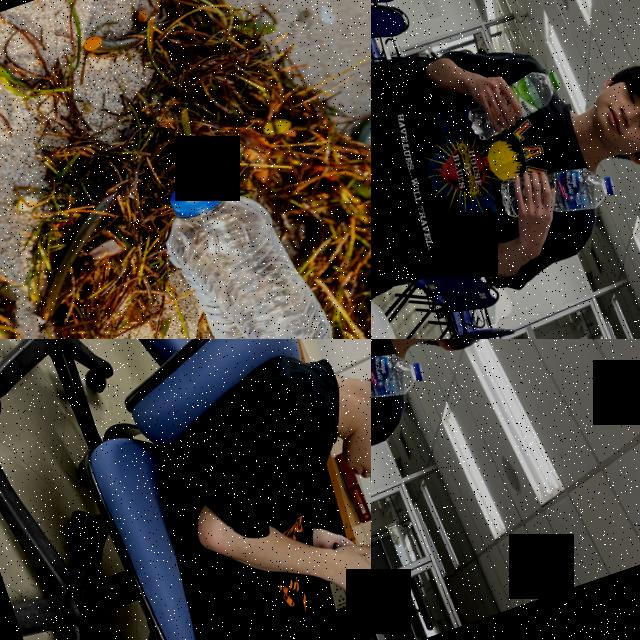bottle: (144, 155, 341, 339), (494, 146, 618, 237), (458, 64, 571, 144), (371, 339, 427, 422)
